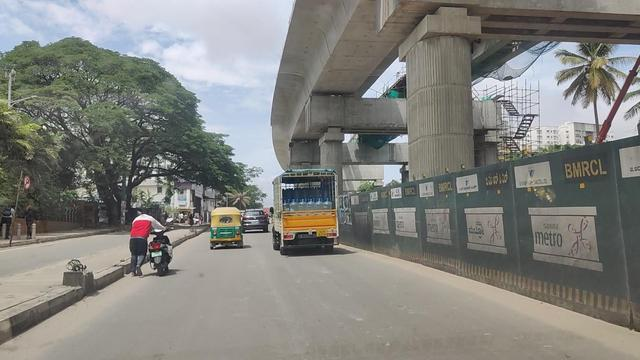HMV: (273, 171, 339, 253)
LMV: (212, 207, 244, 246)
